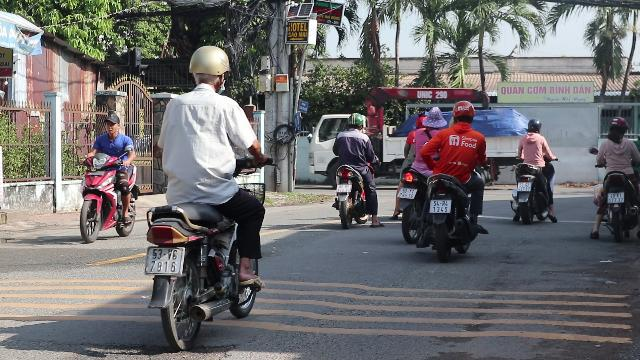helmet: (186, 44, 230, 92), (449, 100, 475, 126), (606, 117, 628, 139), (346, 112, 364, 130), (525, 118, 541, 133)
licenseplate: (146, 247, 184, 275), (430, 199, 450, 212), (398, 188, 417, 198), (608, 193, 624, 203), (336, 184, 352, 192), (517, 183, 531, 192)
motorcyclist: (138, 43, 272, 348), (426, 100, 490, 260), (76, 112, 140, 242), (391, 100, 439, 248), (326, 112, 380, 228), (590, 117, 640, 241), (509, 118, 557, 224)
nohelmet: (421, 106, 445, 130), (104, 113, 120, 135)
